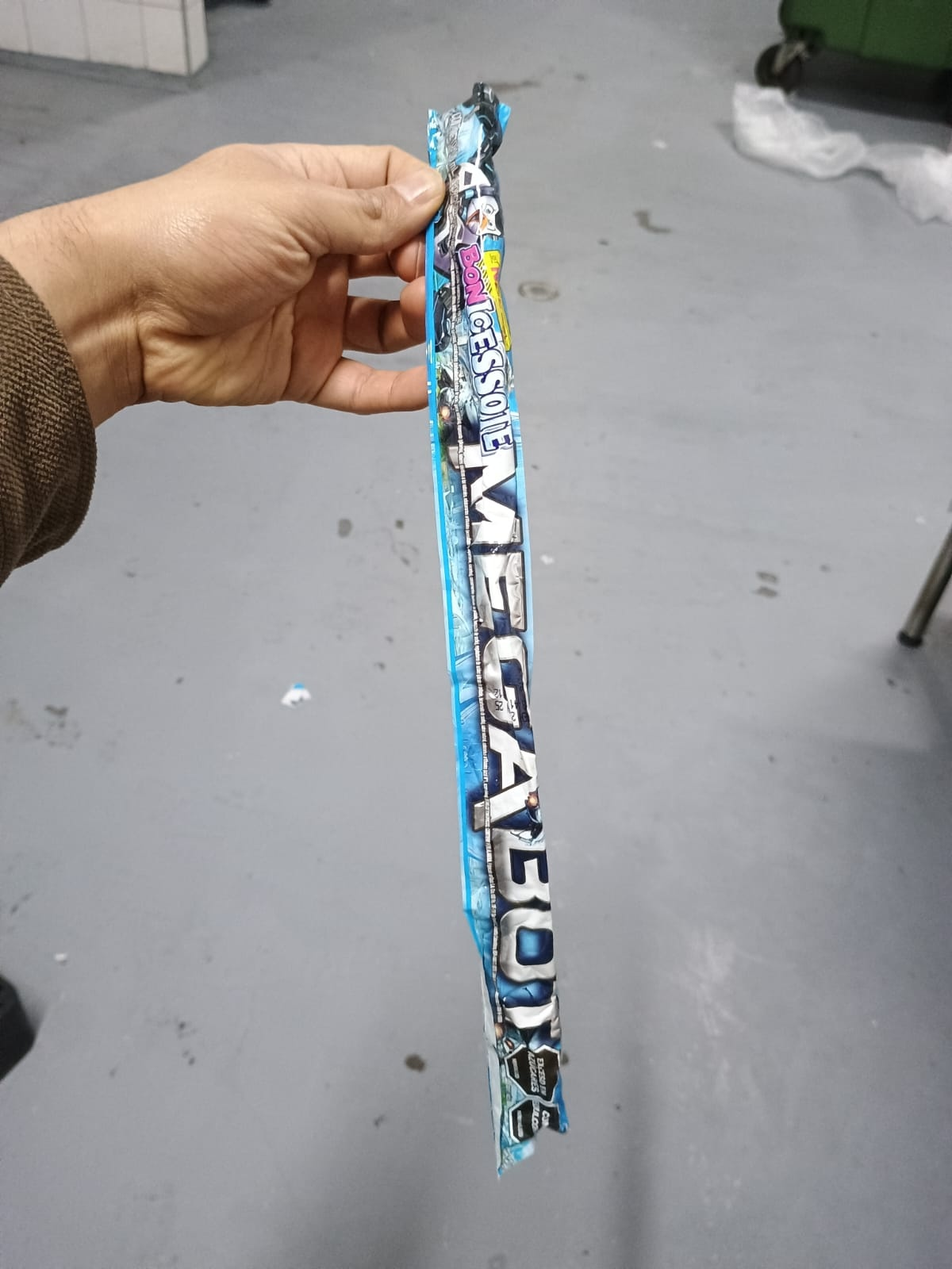Ordinario: (427, 85, 567, 1181)
